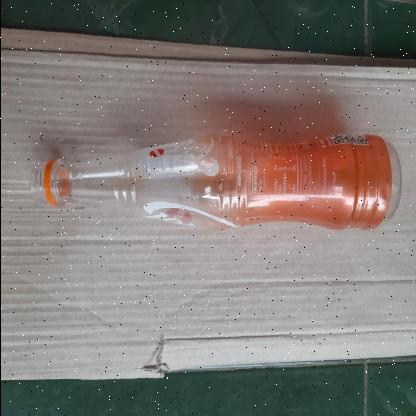Plastic Bottle: (26, 132, 402, 230)
